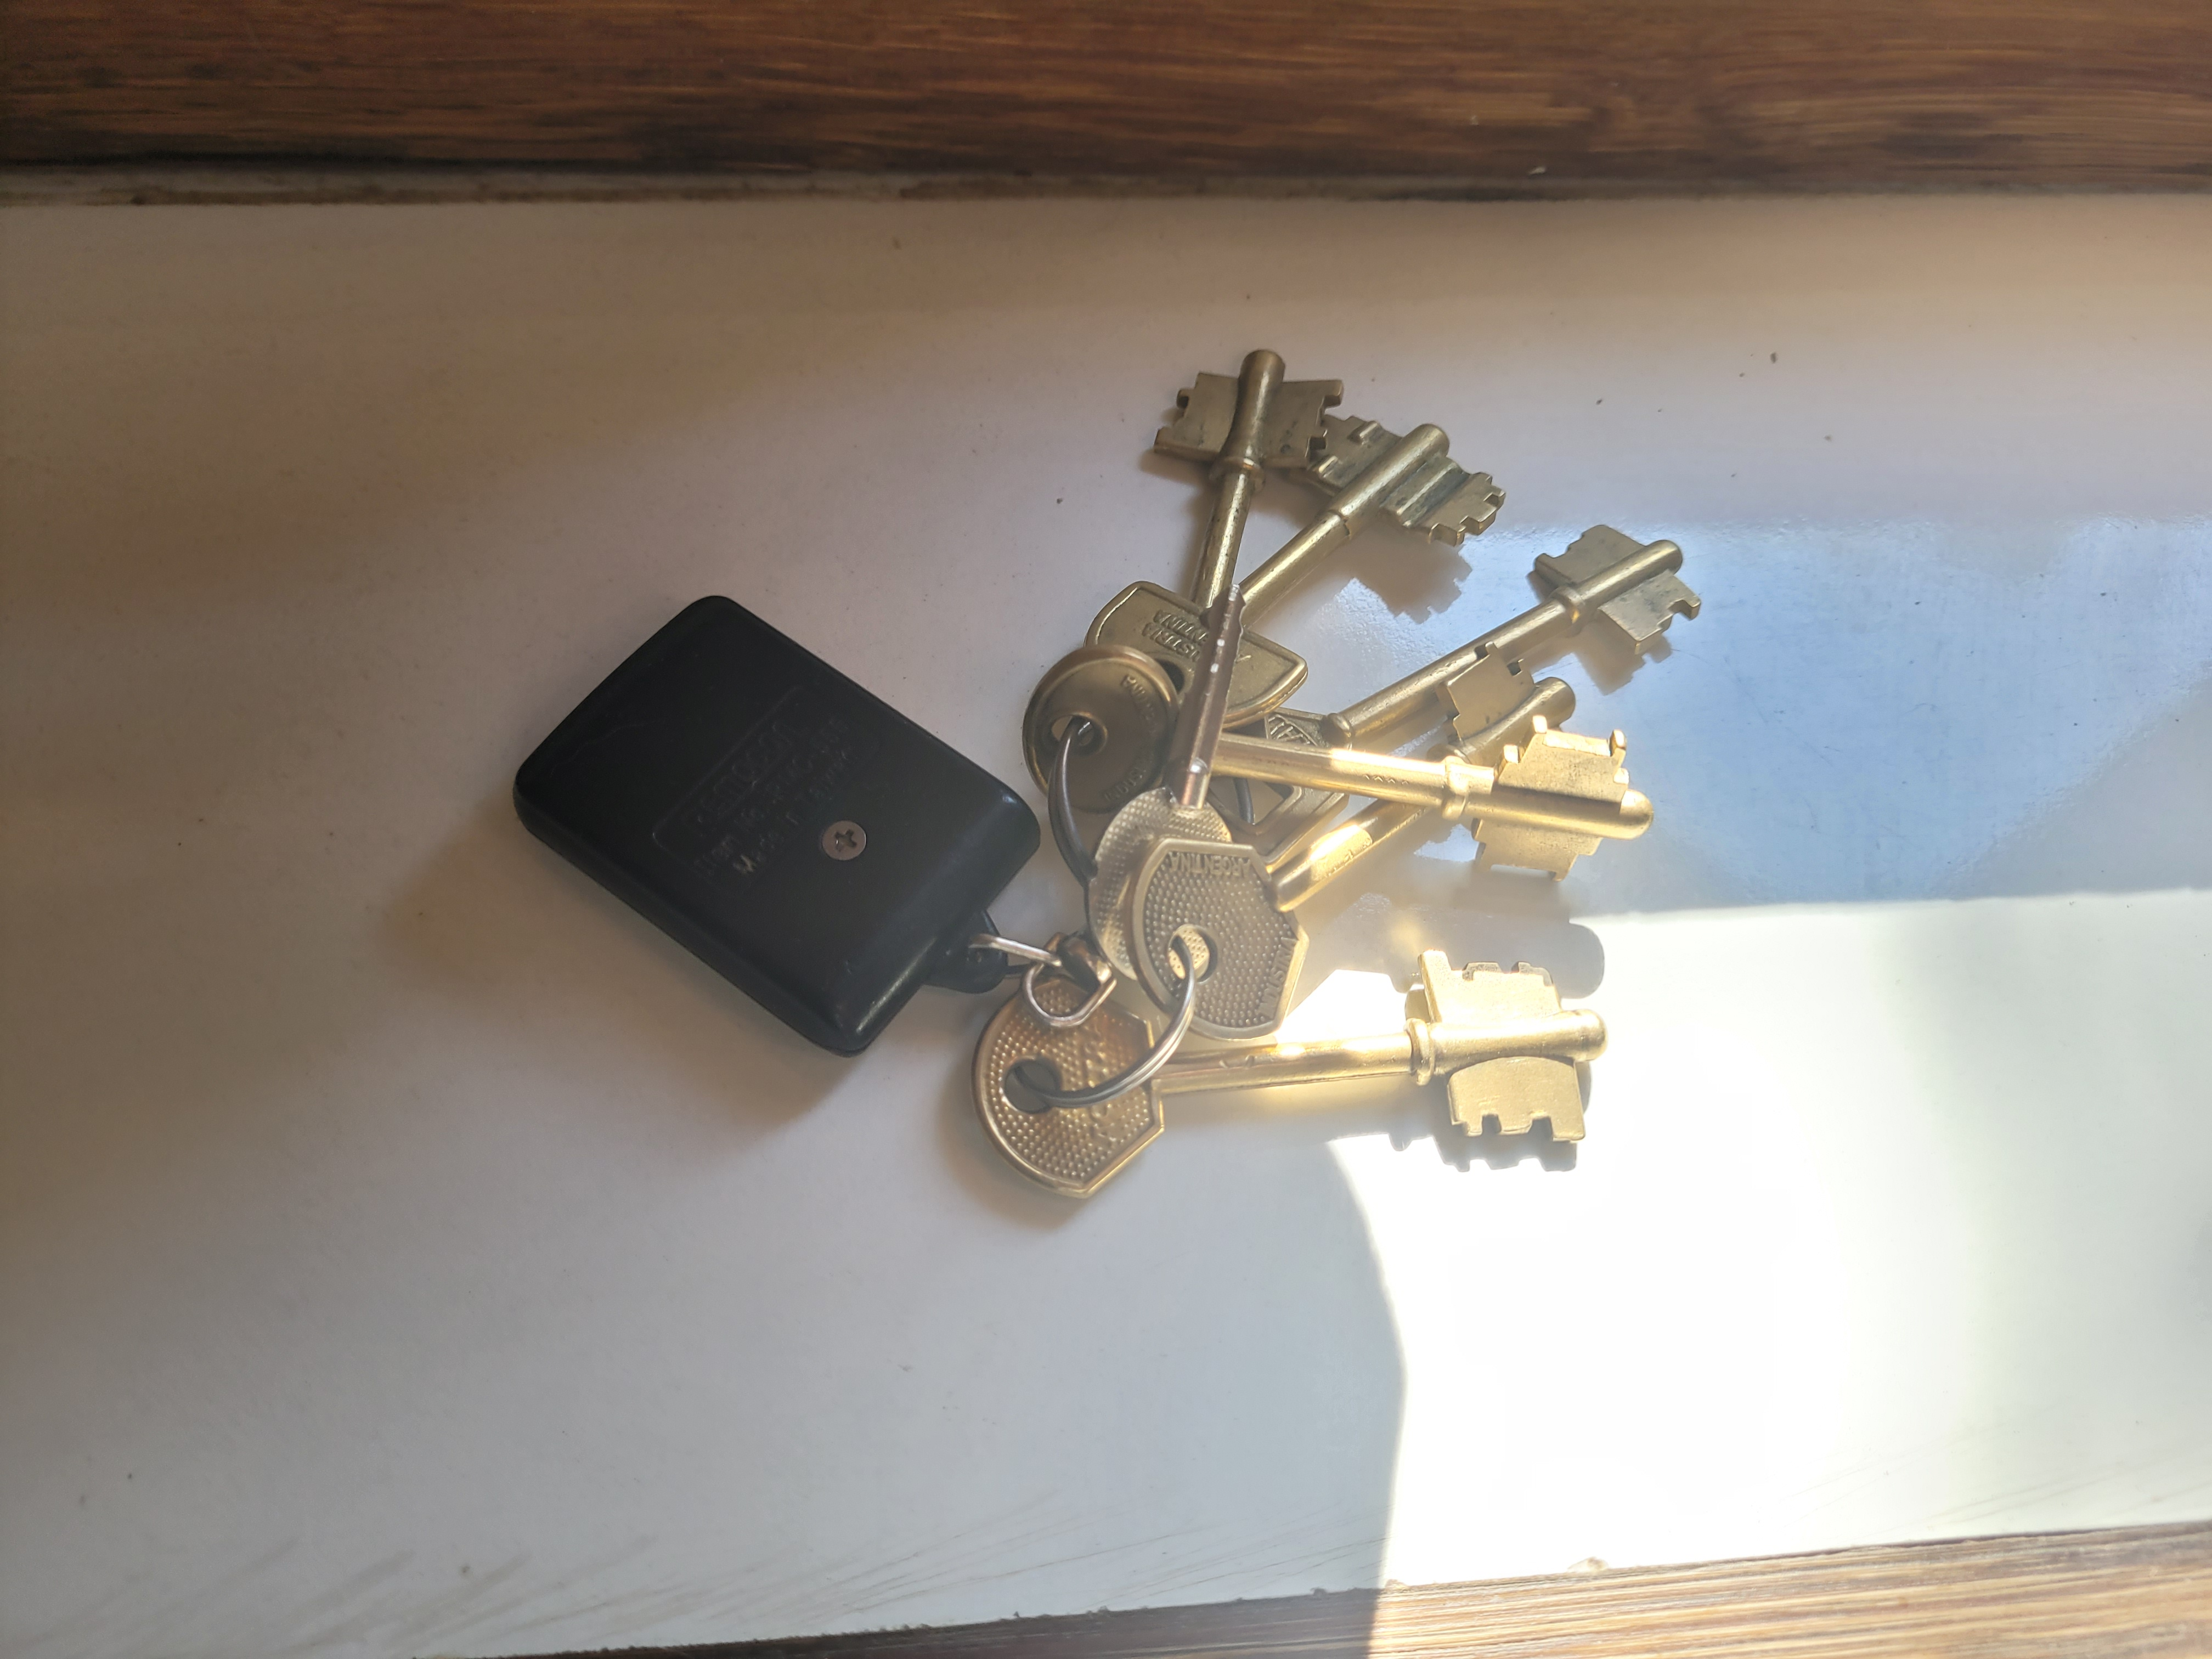llave: (519, 347, 1719, 1263)
